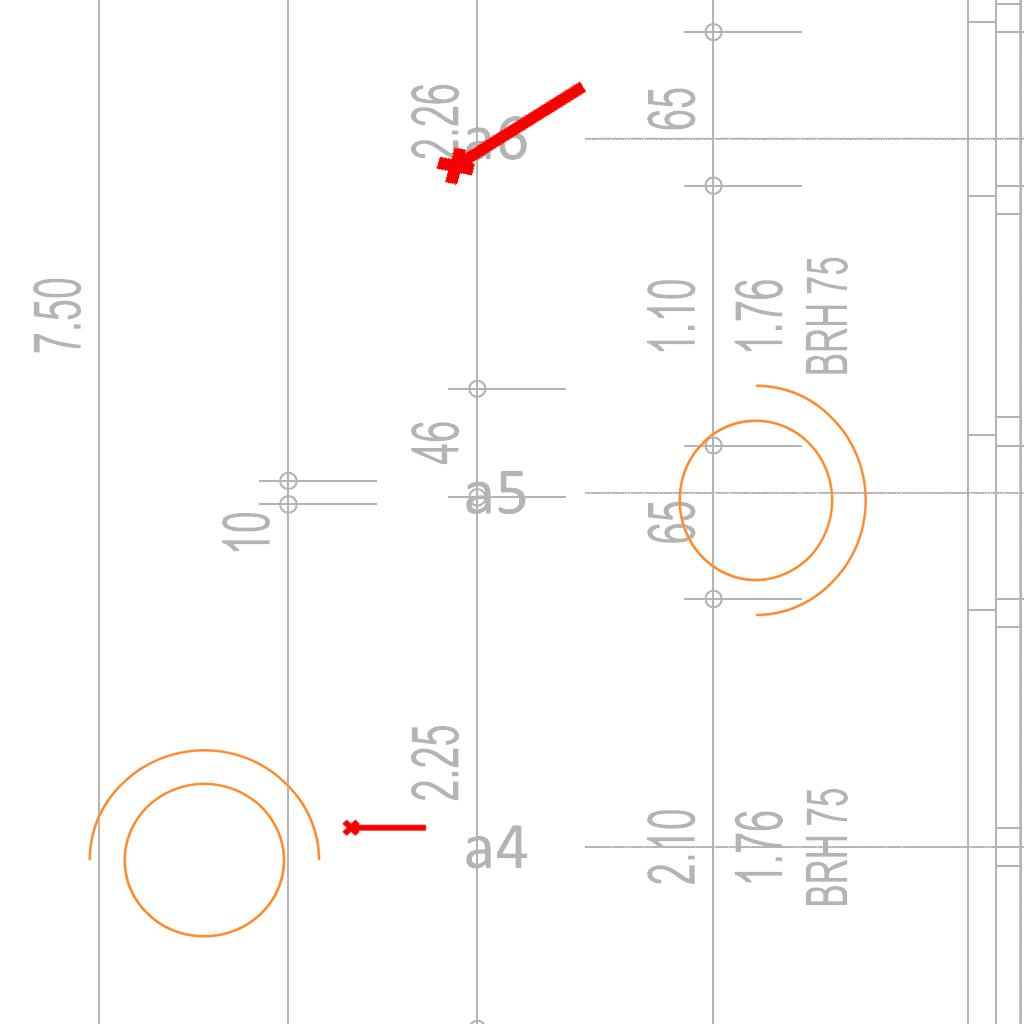ASR_Ansaugoeffnung: (425, 61, 599, 195), (341, 815, 429, 838)
Scheinwerfer_fuer_Alarmbeleuchtung: (653, 362, 878, 626), (66, 738, 330, 963)
